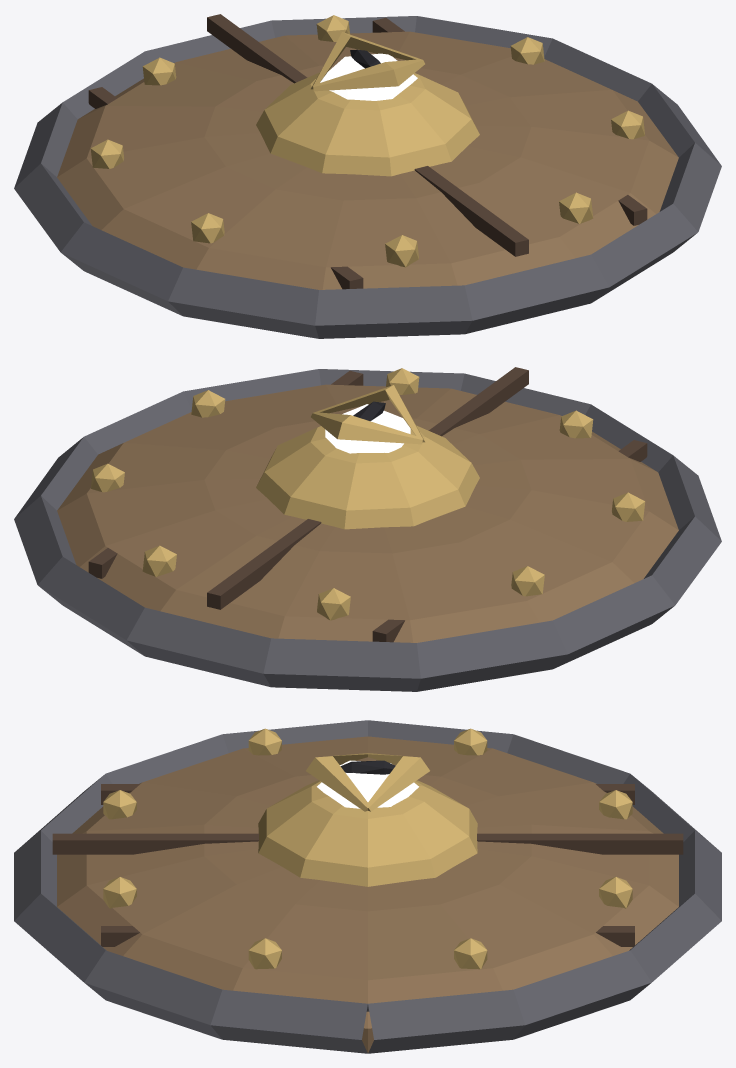
The model's file is shield-shell.glb.
3 renders of one model, top to bottom at view 1: azimuth 30°, elevation 25°; view 2: azimuth 150°, elevation 25°; view 3: azimuth 270°, elevation 25°, orthographic. The views are drawn at different scales.
Visible parts, largest first — view 1: shell; view 2: shell; view 3: shell.
Part boxes in pixels (bbox=[...]): shell: bbox=[14, 14, 721, 338]; shell: bbox=[14, 367, 721, 691]; shell: bbox=[14, 720, 721, 1053].
Bounding box in the file's own units: 0.3676 × 0.1221 × 0.3588.
